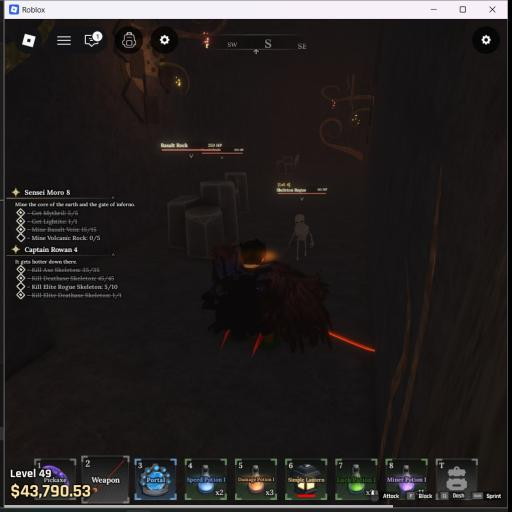player: (202, 239, 332, 355)
rock: (168, 180, 240, 257), (224, 171, 248, 212), (277, 157, 294, 173)
